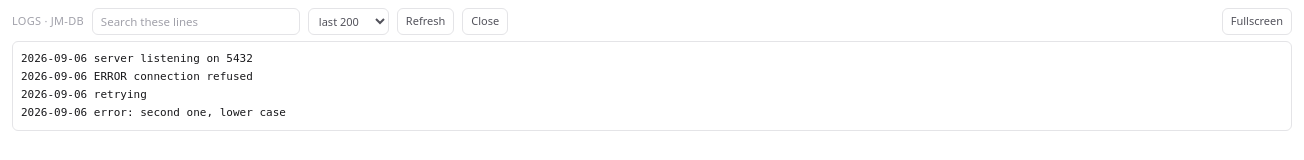
AC-2 / AC-3 — search filters, counts and marks › hides non-matching lines and reports the count
In the field with test id "docker-logs-search": x=196, y=22 [92, 8, 300, 35], type "retrying"
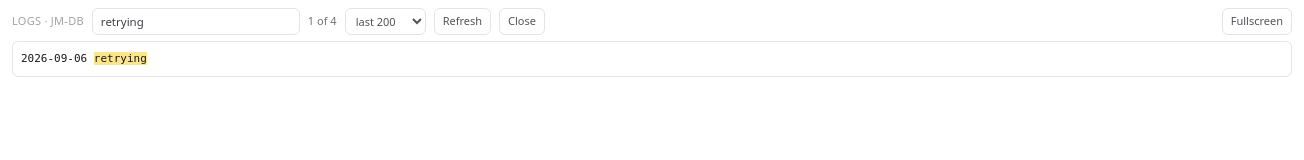
Result: the text with test id "docker-logs-count" reads "1 of 4" at [308, 13, 337, 30]
